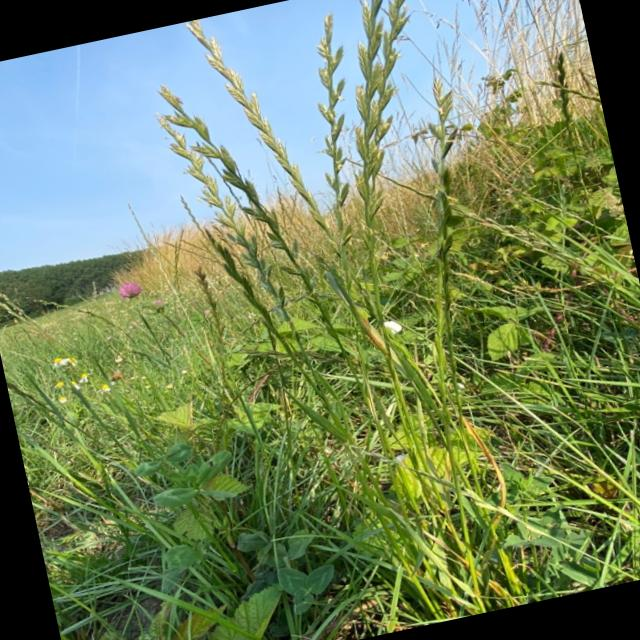Lolium: (170, 62, 356, 394), (312, 0, 477, 271), (190, 1, 340, 258), (156, 103, 288, 331), (323, 0, 462, 216), (291, 11, 384, 240), (208, 222, 276, 340), (26, 278, 116, 340), (547, 52, 587, 156), (197, 270, 233, 364), (0, 270, 35, 329), (0, 284, 37, 335), (497, 0, 578, 11)
